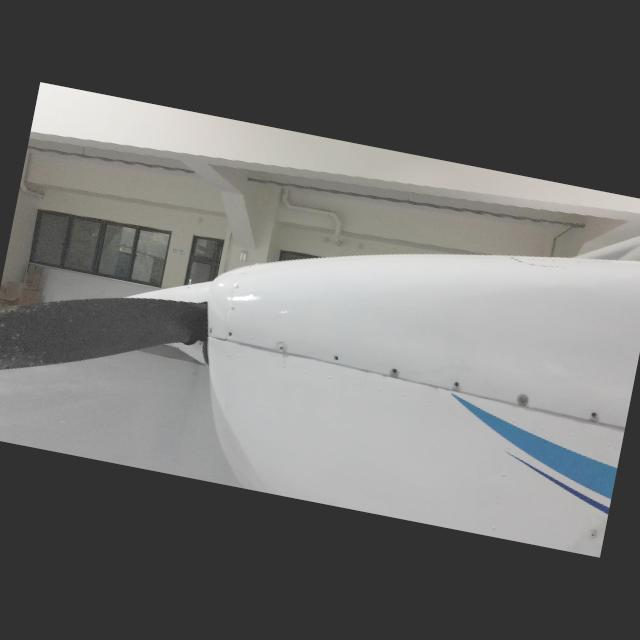Missing Fastener: (331, 354, 342, 362), (452, 380, 461, 388), (590, 410, 598, 418), (226, 331, 233, 339), (391, 368, 398, 374)
